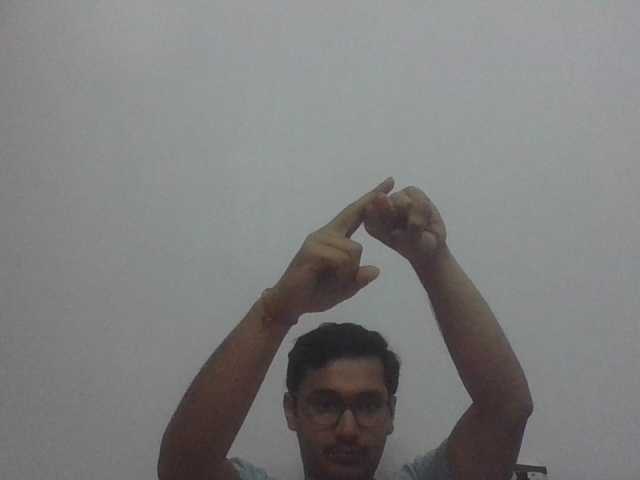F: (285, 169, 454, 310)
